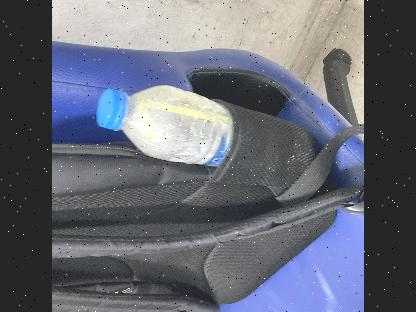Plastic Bottle: (92, 84, 242, 166)
